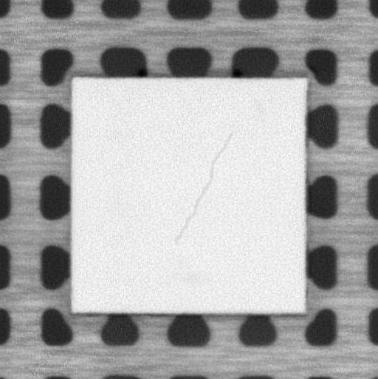DIE_CRACK: (172, 132, 234, 244)
